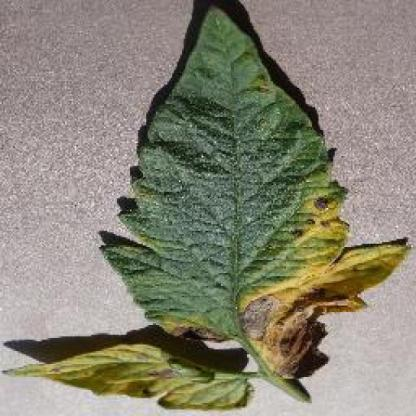Tomato_Blight: (12, 1, 385, 381)
